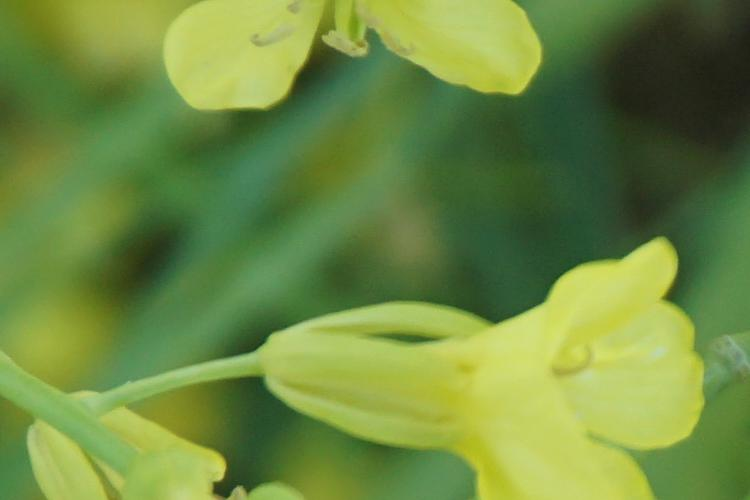yellow: (254, 227, 702, 499), (159, 1, 572, 135)
